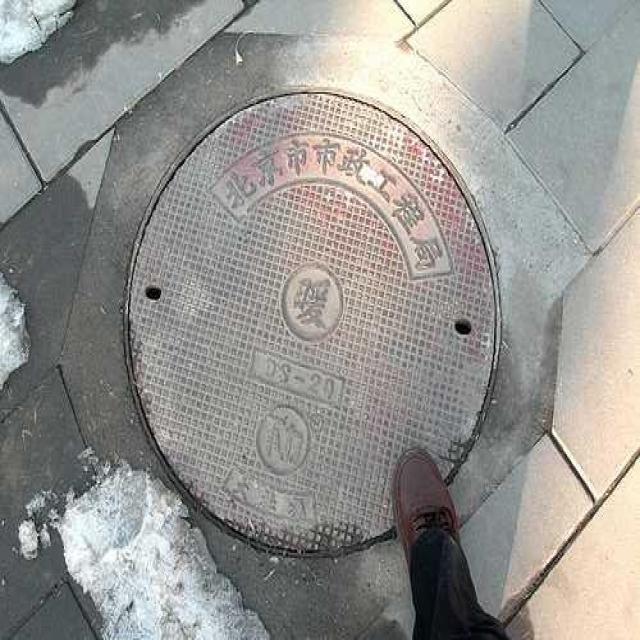manhole: (123, 89, 495, 560)
